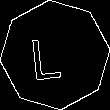L_N: (37, 28, 73, 82)
